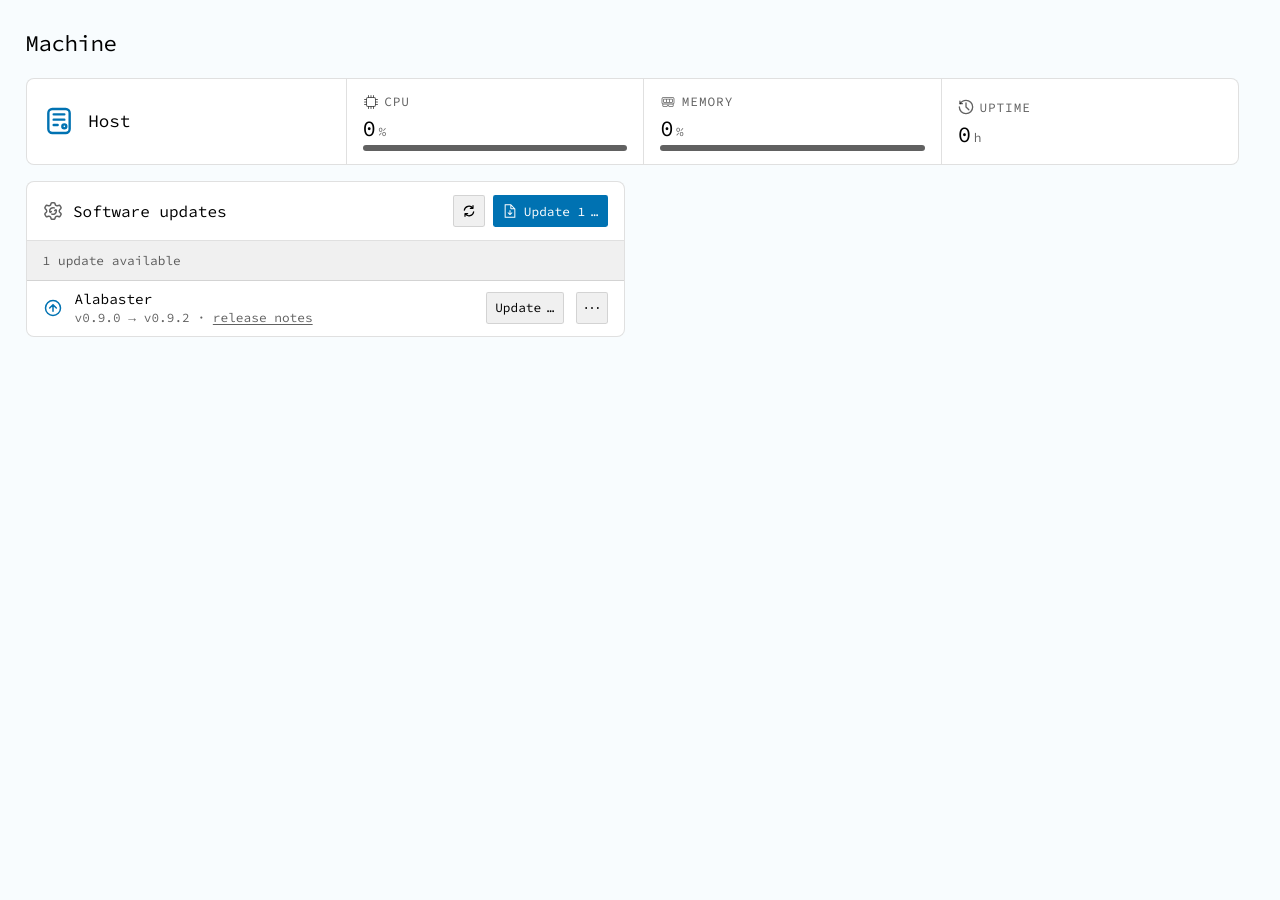
Test: MachineView › shows a release source's notes from GitHub beside the link to its release page
The image size is (1280, 900).
Click the button with class "machine-row__action" at (525, 308), box [486, 292, 564, 324]
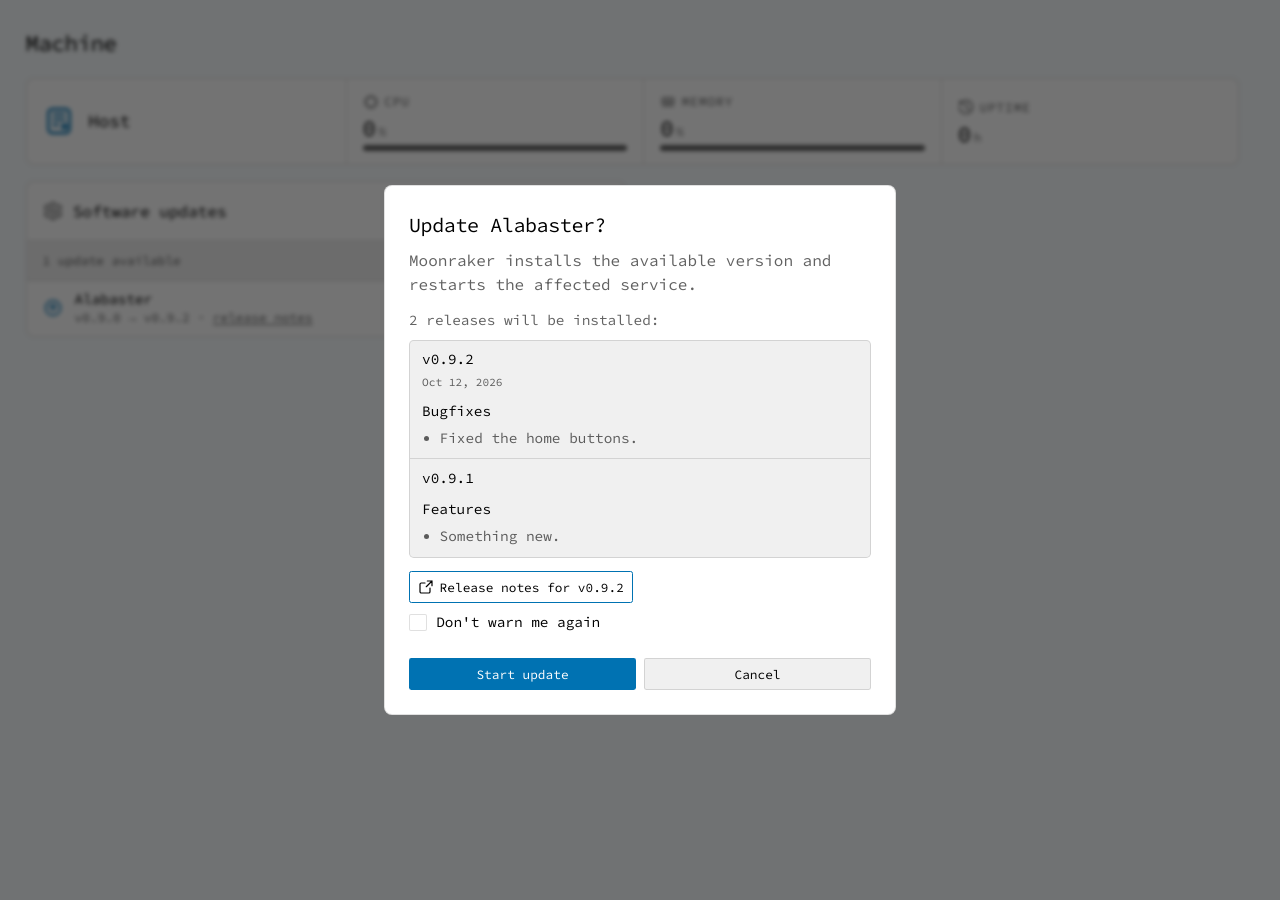
Check: the dialog with class "confirm-dialog" shows "2 releases will be installed", box [409, 311, 659, 329]
Check: the text "home" is shown, box [526, 429, 560, 447]
